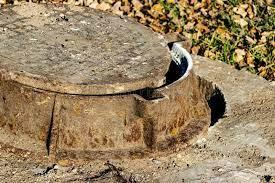open drainage-not overflowing-: (0, 16, 232, 150)
